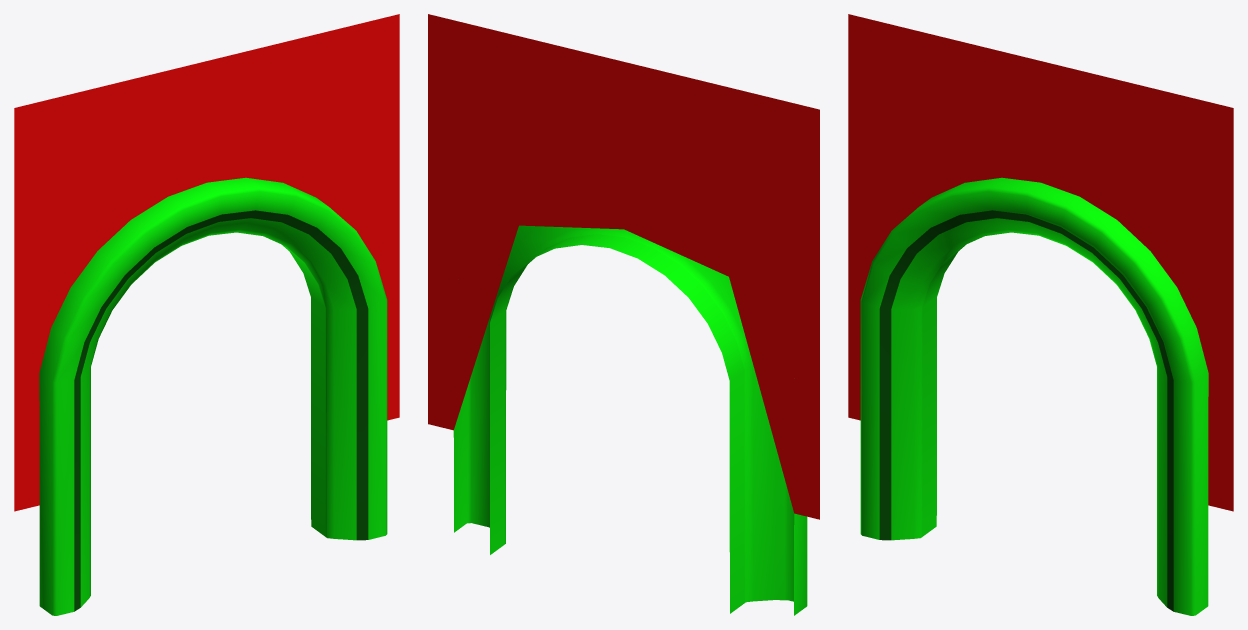
Rendered from SM_BaseWallArchMedium4m.fbx.
3 renders of one model, left to right at view 1: azimuth 30°, elevation 25°; view 2: azimuth 150°, elevation 25°; view 3: azimuth 330°, elevation 25°, orthographic.
Visible parts, largest first — view 1: SM_BaseWallArchMedium4m; view 2: SM_BaseWallArchMedium4m; view 3: SM_BaseWallArchMedium4m.
Boxes of the visible parts, x1,y1,x2,y2 form: SM_BaseWallArchMedium4m: (14,14,399,615); SM_BaseWallArchMedium4m: (428,14,819,615); SM_BaseWallArchMedium4m: (848,14,1233,615).
Size of the model in its own units: 400 by 500 by 50.73.
